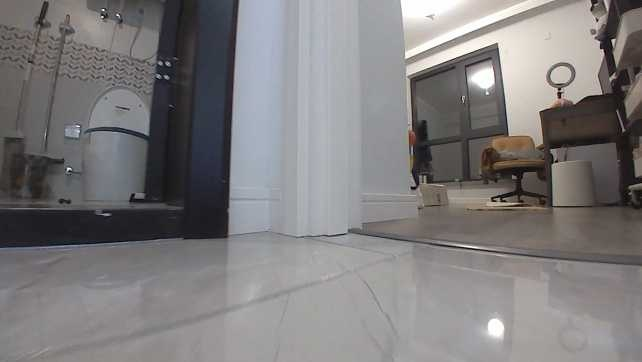door_sill: (345, 226, 640, 265), (0, 202, 189, 249)
toilet: (81, 83, 149, 200)
